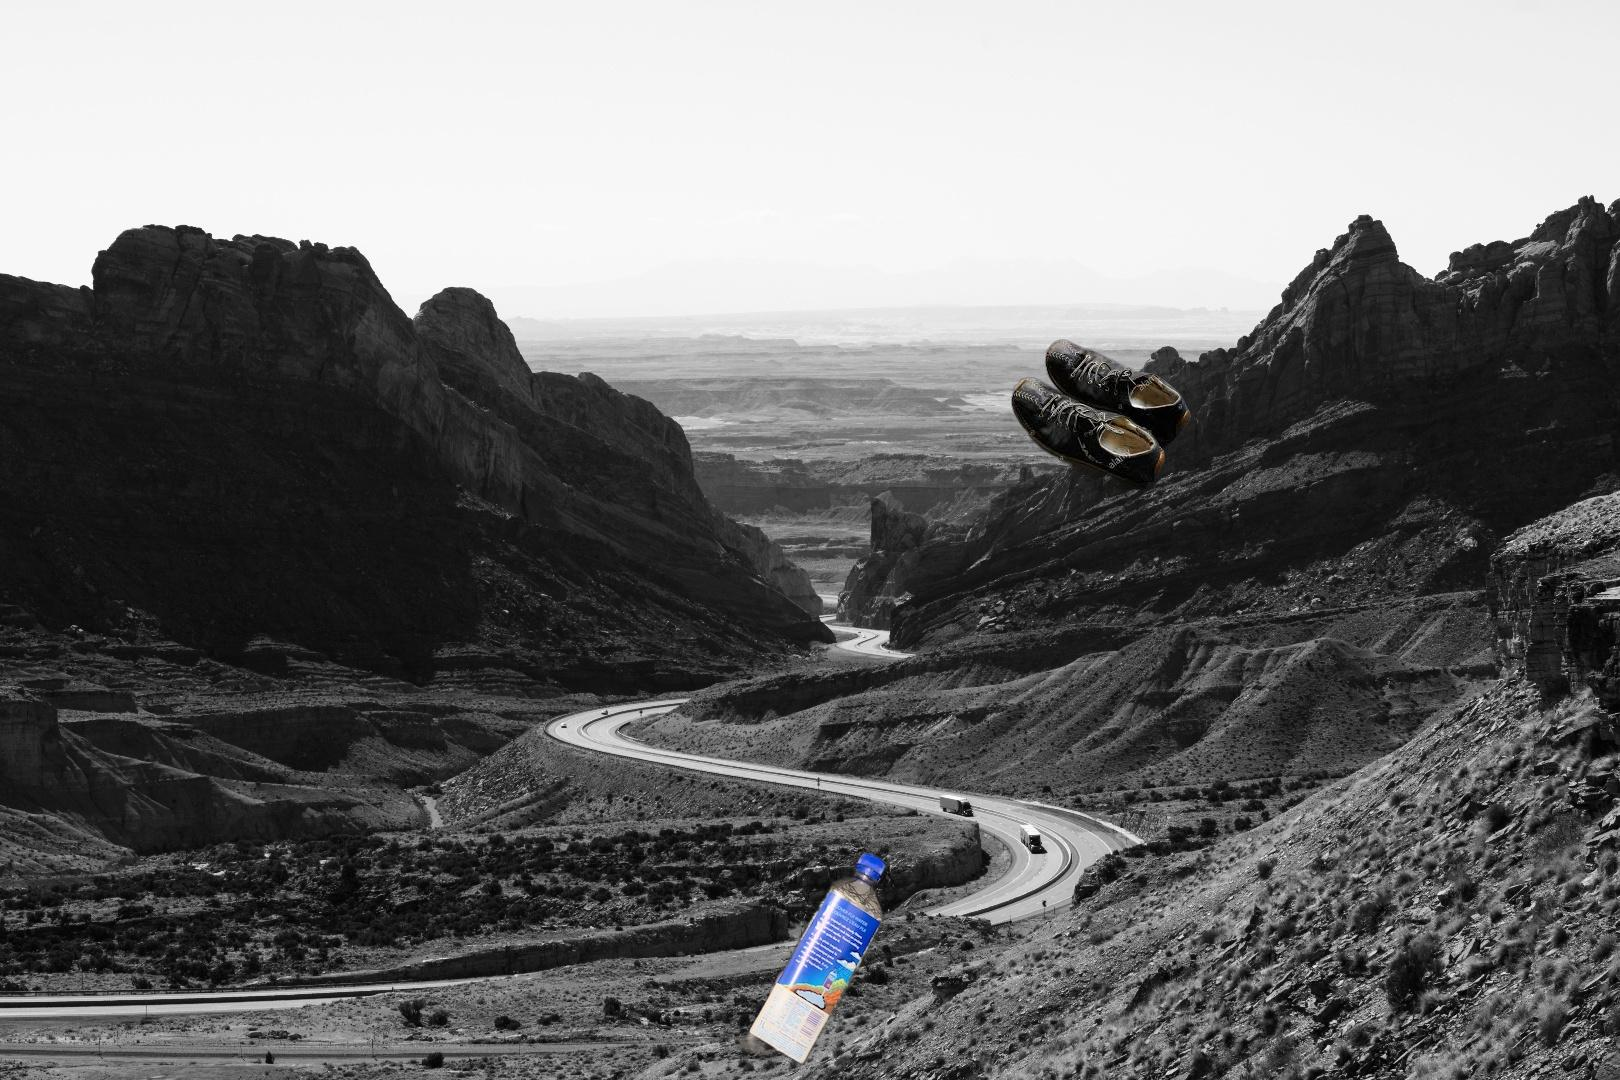clothes: (45, 1060, 389, 1080)
plastic-bottles: (604, 844, 891, 1080)
shoes: (1009, 337, 1193, 495)
